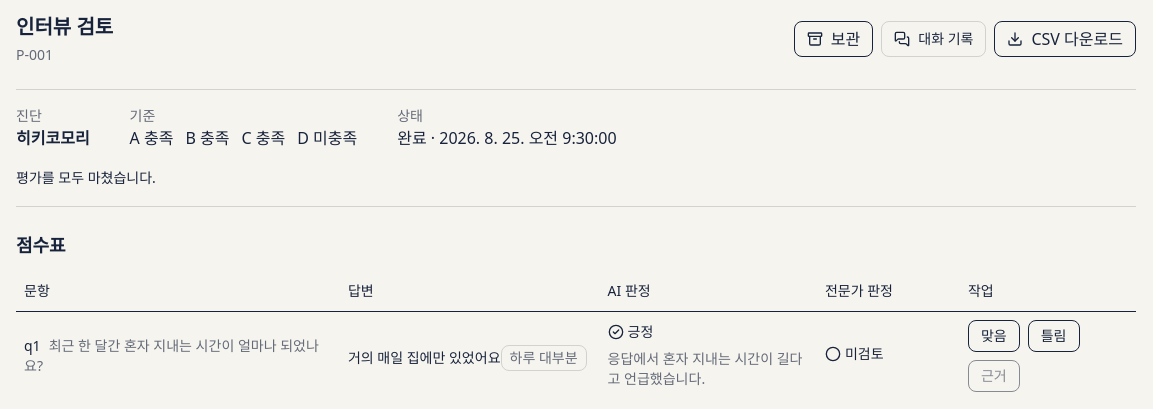
Test: administrator interview review › approves an item and renders only the API committed response
The image size is (1153, 409).
Expected: the text "q1" is shown, [24,336,41,354]
What coordinates should you click on to do the following:
click the button with aria-label "q1 맞음"
I would click on:
 (994, 336)
Its box is [968,320,1020,352].
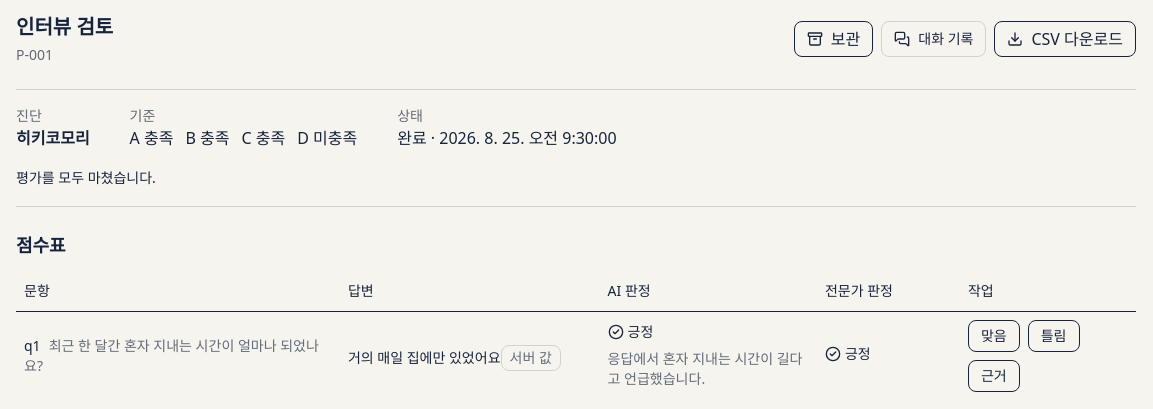
Expected: the text "서버 값" is shown, [500,344,561,370]
Expected: the text "하루 대부분" is gone
